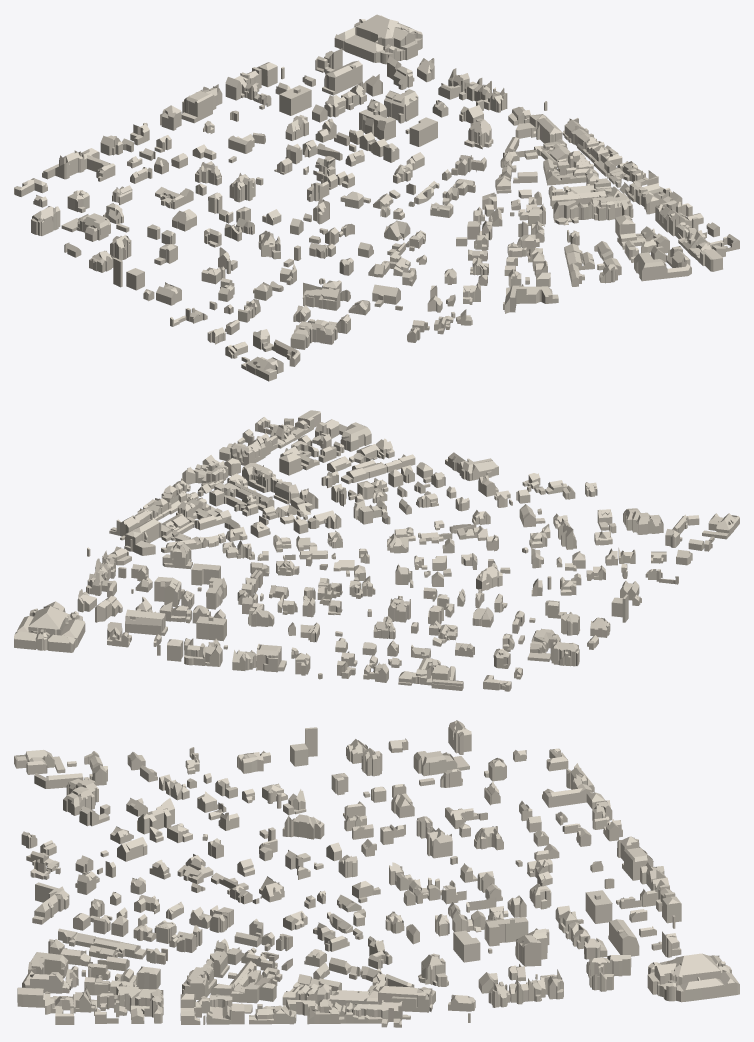
3 views of the same model, one above another, from view 1: azimuth 30°, elevation 25°; view 2: azimuth 150°, elevation 25°; view 3: azimuth 270°, elevation 25° (orthographic). The views are drawn at different scales.
Size of the model in its own units: 453 by 32.18 by 497.
